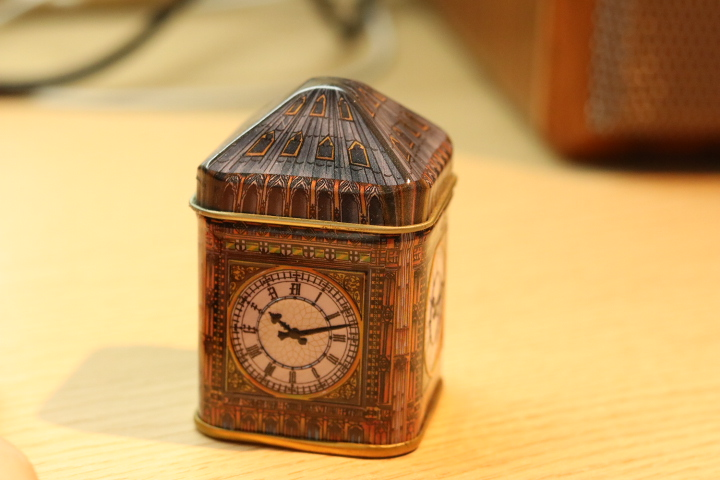Big Ben: (172, 49, 478, 472)
